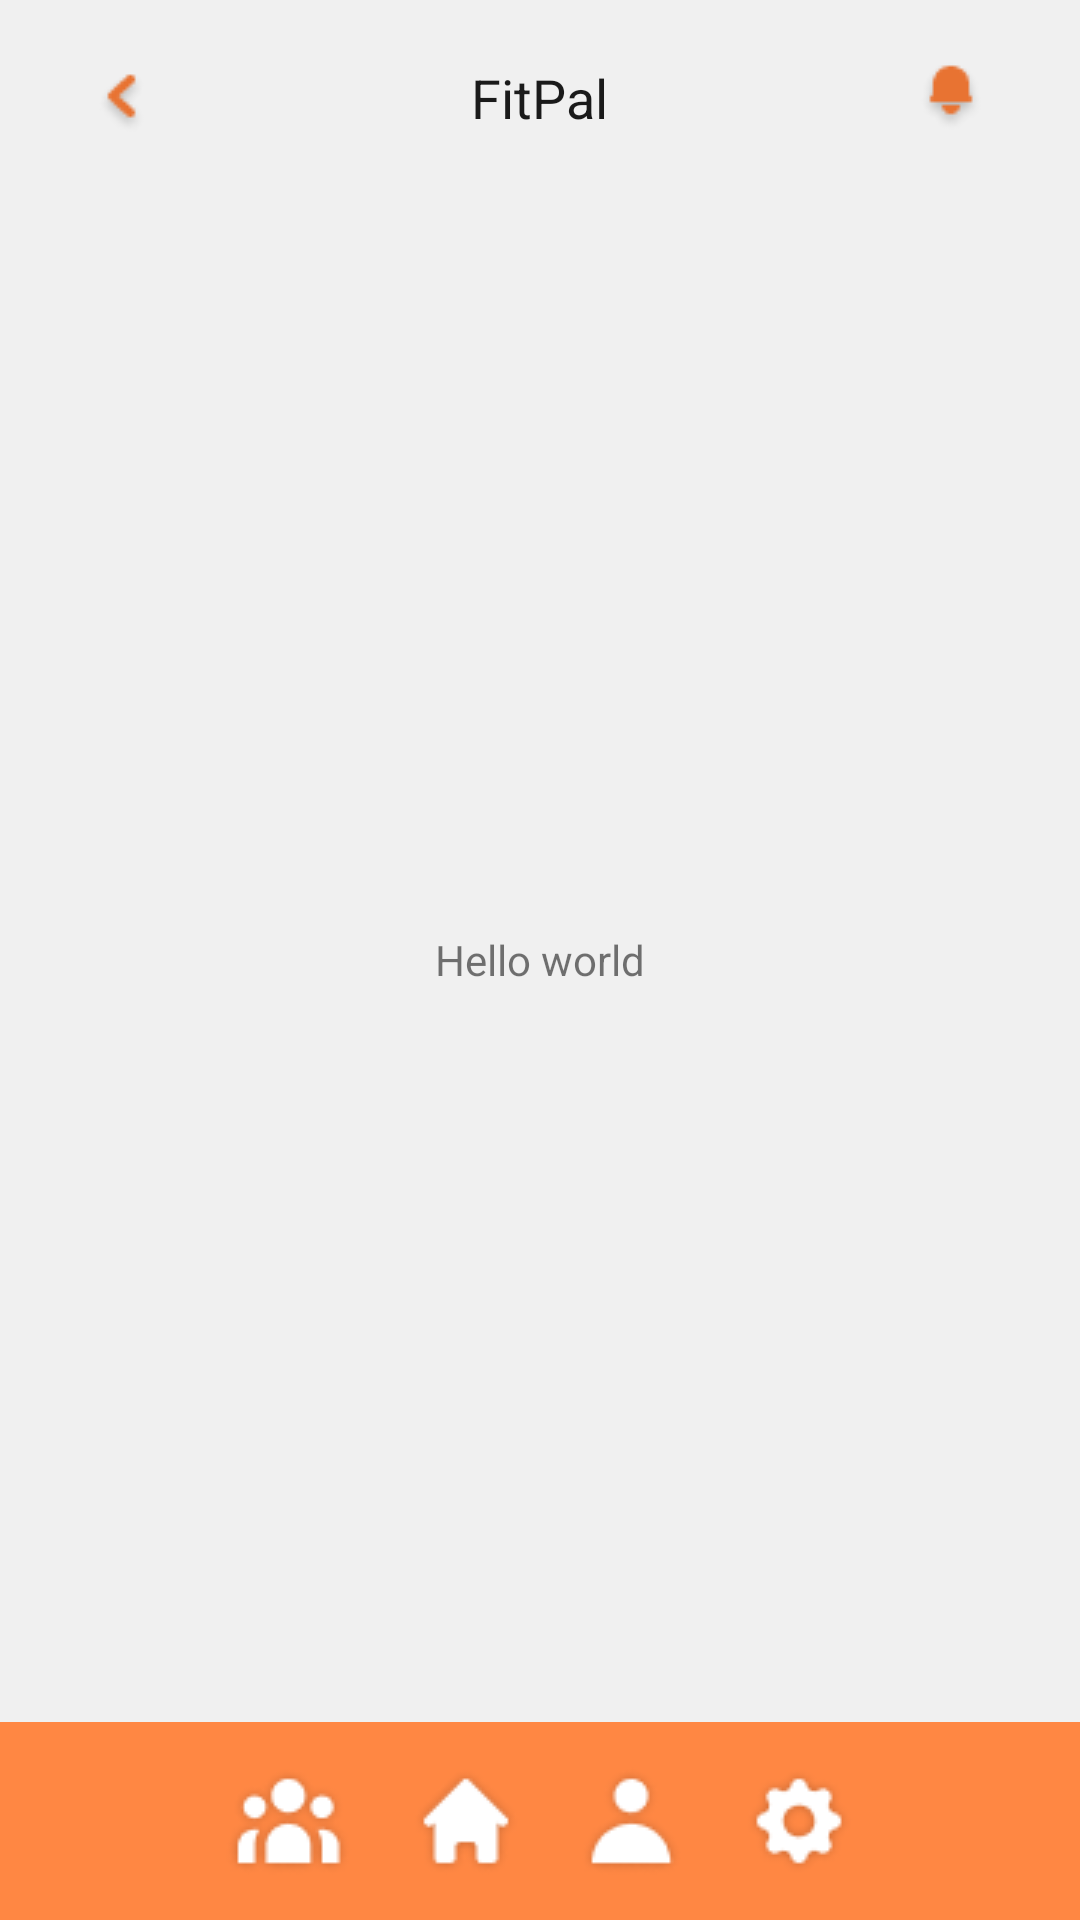

Named icons in this screenshot (1080px x 1920px) and their centers, point (x, y):
Back: point (121, 97)
community: point (288, 1821)
home: point (466, 1821)
Notify: point (951, 91)
profile: point (631, 1821)
settings: point (799, 1821)
